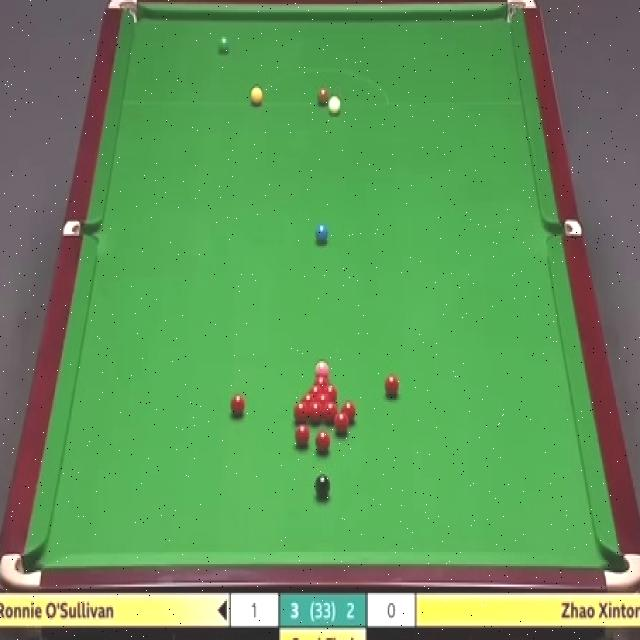black-ball: (315, 474, 331, 500)
blue-ball: (315, 224, 329, 244)
brown-ball: (316, 88, 330, 106)
green-ball: (218, 36, 230, 55)
pink-ball: (314, 359, 329, 372)
red-ball: (229, 394, 246, 419), (384, 374, 400, 400), (295, 424, 311, 448), (315, 430, 331, 454), (293, 401, 308, 423), (334, 413, 348, 436), (342, 401, 356, 424), (308, 400, 322, 422), (324, 402, 338, 424), (324, 383, 338, 400), (312, 373, 329, 383), (307, 384, 323, 393), (315, 393, 331, 401), (301, 393, 315, 402)
white-ball: (328, 96, 340, 116)
yellow-ball: (250, 87, 262, 106)
